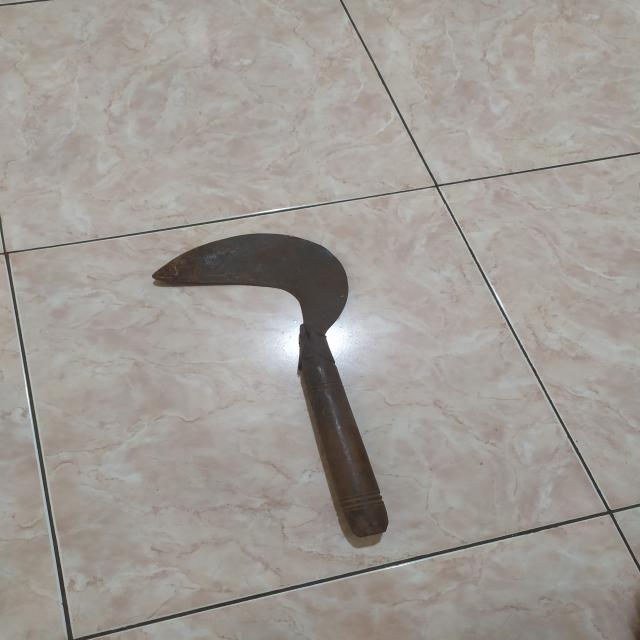Celurit: (155, 233, 392, 534)
